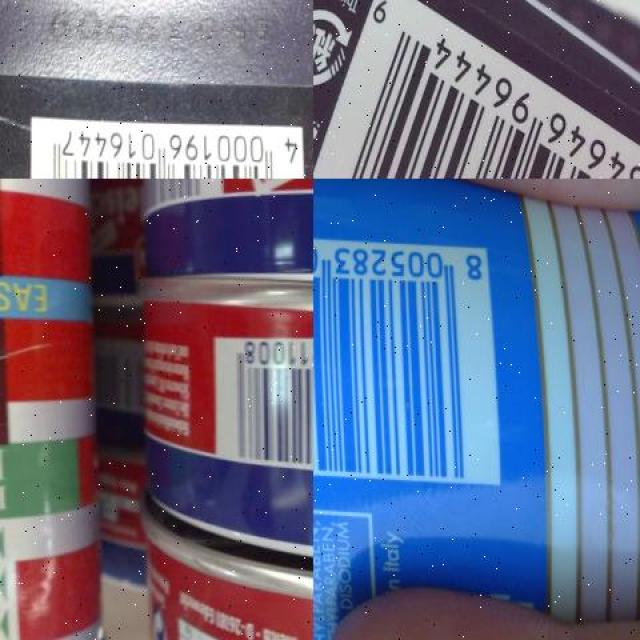Barcode: (313, 0, 640, 179), (313, 225, 504, 488), (29, 109, 308, 179), (215, 328, 313, 477)
